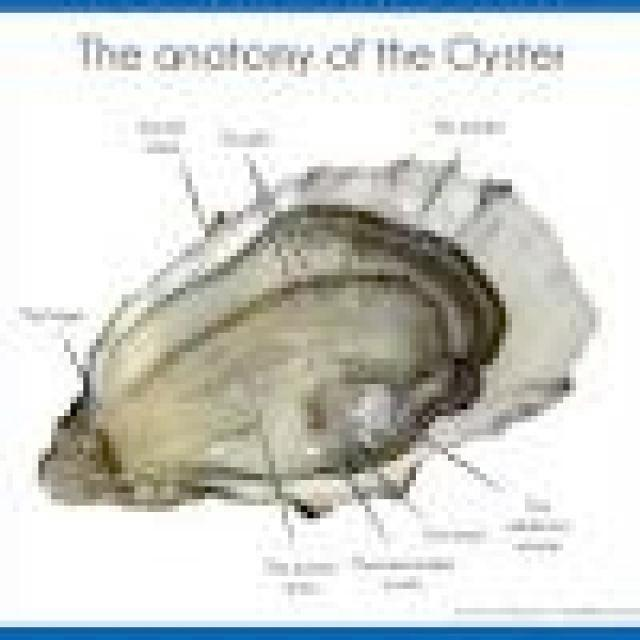Oyster-Open: (39, 160, 595, 516)
